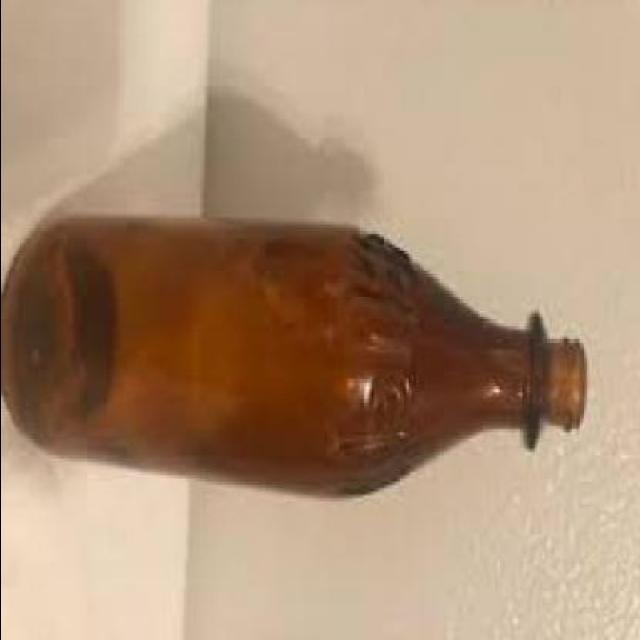kaca: (3, 218, 546, 504)
